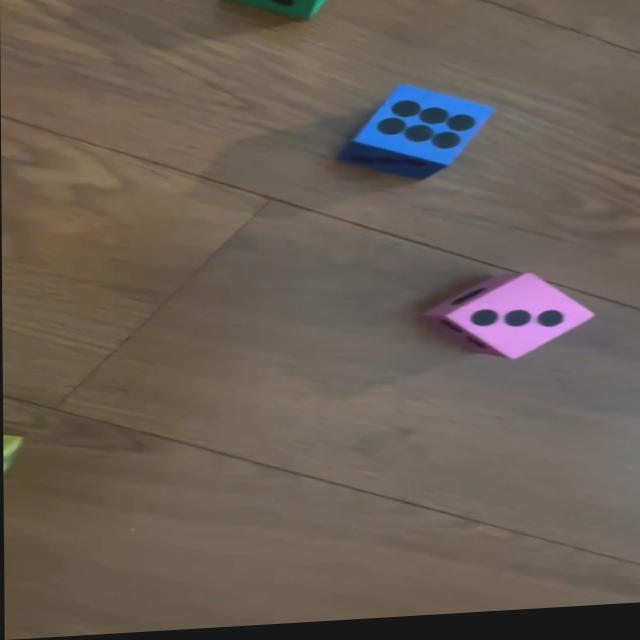cube: (353, 85, 493, 189), (226, 0, 347, 20)
